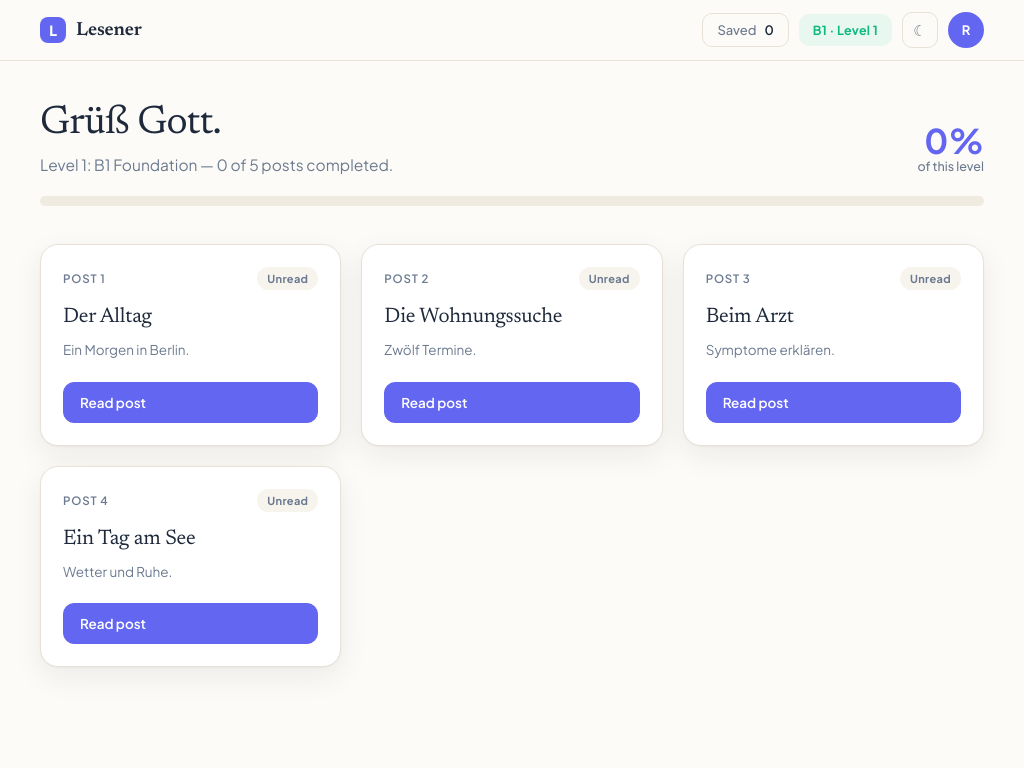
it: opening a post from a card › translates a word using the dictionary from the same fetch
The image size is (1024, 768).
Click the button "Read post" below "Zwölf Termine.": click(512, 402) [384,382,640,423]
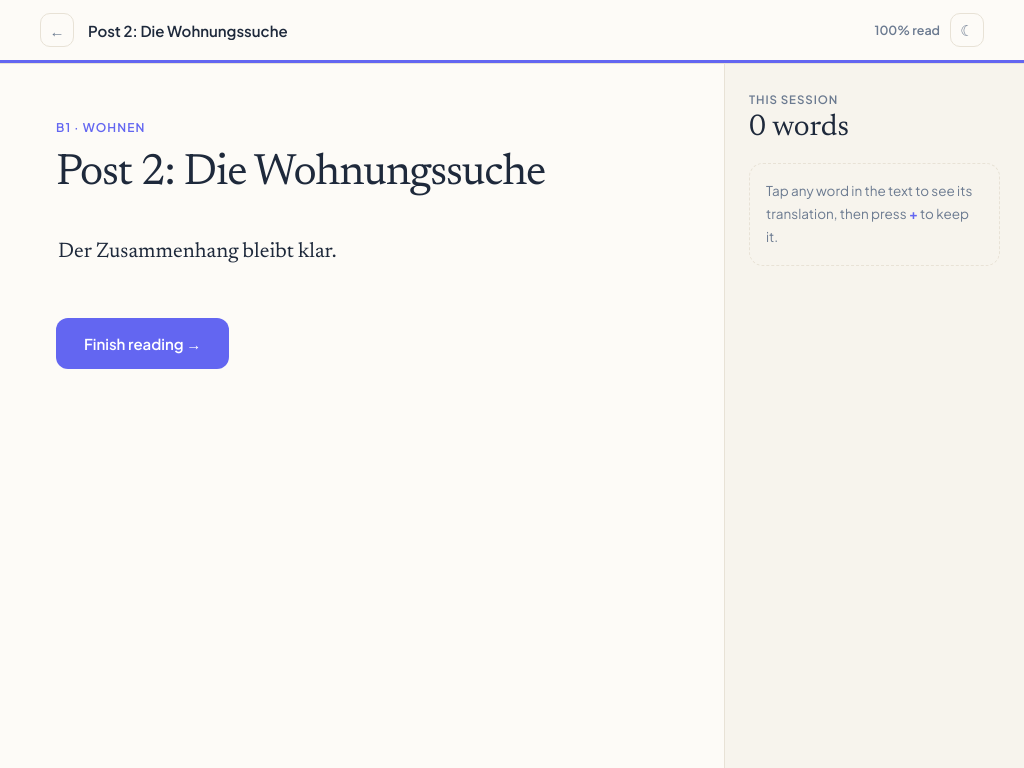
Click the text "Zusammenhang": click(167, 252) [96,242,239,263]
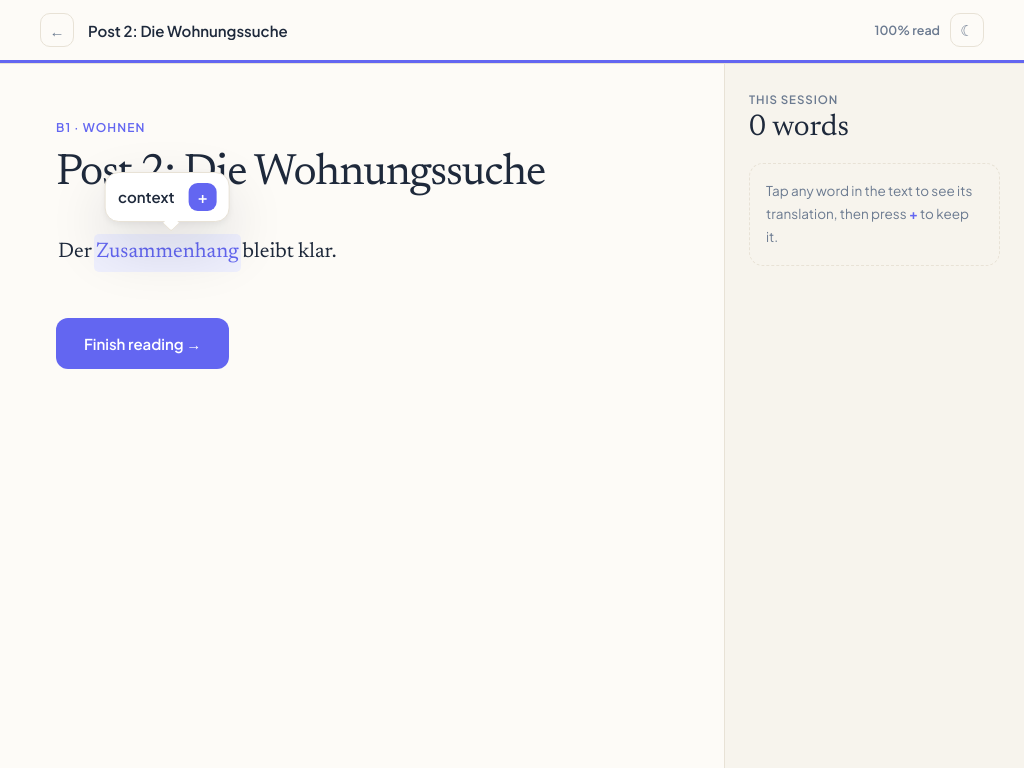
Expected: the text "context" is shown, [118,187,175,206]
